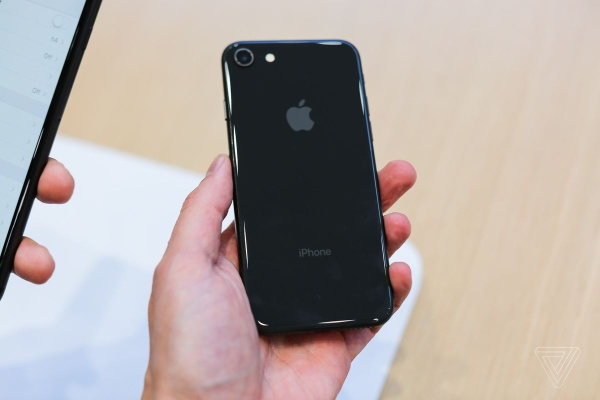apple: (276, 91, 329, 156)
